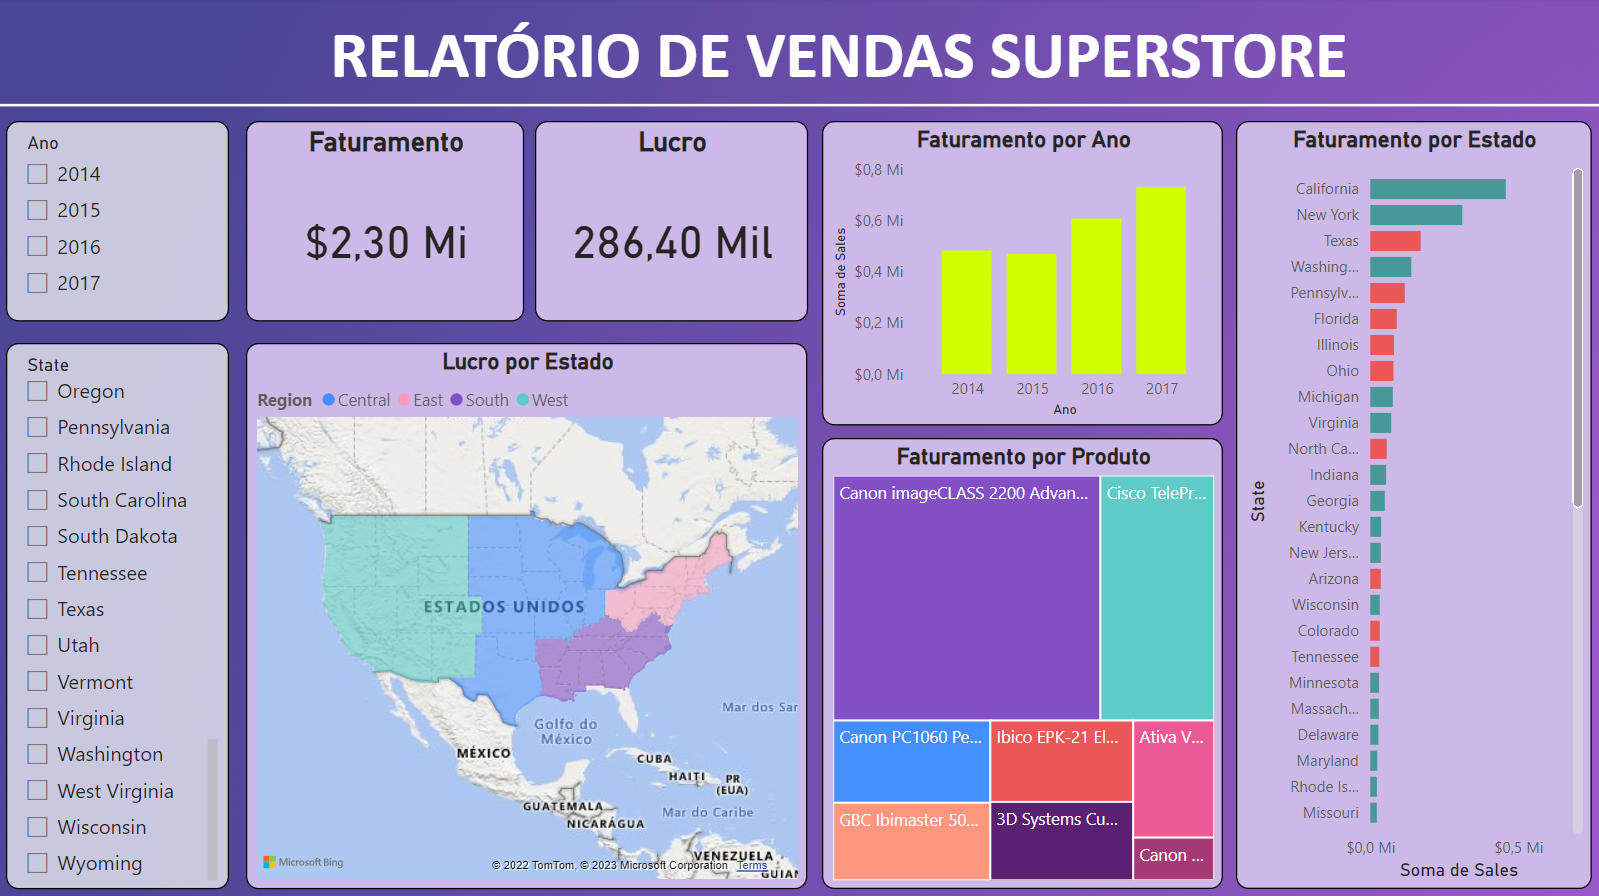

What the dashboard file says about the page in this screenshot:
{"tool":"powerbi","page":{"name":"Página 1","canvas":[1280,720],"ordinal":0},"visuals":[{"type":"barChart","title":"Faturamento por Estado","fields":{"Category":["Sample - Superstore.State"],"Y":["Sum(Sample - Superstore.Sales)"]},"box":[988.4,98.1,283.5,613],"z":0},{"type":"slicer","fields":{"Values":["Sample - Superstore.Ano"]},"box":[6.3,98.1,178.2,160.2],"z":1000},{"type":"slicer","fields":{"Values":["Sample - Superstore.State"]},"box":[6.3,275.4,178.2,435.7],"z":2000},{"type":"columnChart","title":"Faturamento por Ano","fields":{"Y":["Sum(Sample - Superstore.Sales)"],"Category":["Sample - Superstore.Ano"]},"box":[658,98.1,320.5,243],"z":3000},{"type":"card","title":"Faturamento","fields":{"Values":["Sum(Sample - Superstore.Sales)"]},"box":[198,98.1,222.3,160.2],"z":4000},{"type":"filledMap","title":"Lucro por Estado","fields":{"Category":["Sample - Superstore.State"],"Series":["Sample - Superstore.Region"]},"box":[198,275.4,448.3,435.7],"z":5000},{"type":"textbox","box":[157.5,7.2,1028,78.3],"z":6000},{"type":"shape","box":[0,79.2,1280,12.6],"z":7000},{"type":"treemap","title":"Faturamento por Produto","fields":{"Group":["Sample - Superstore.Product Name"],"Values":["Sum(Sample - Superstore.Sales)"]},"box":[658,351.1,320.5,360.1],"z":8000},{"type":"card","title":"Lucro","fields":{"Values":["Sum(Sample - Superstore.Profit)"]},"box":[428.5,98.1,217.8,160.2],"z":8001}]}

Visuals, with their boxes in screenshot pixels (x1, y1, x2, y2), scaled from the page's 1280x720 canvas onto the 1599x896 screenshot:
"Faturamento por Estado" barChart: bbox=(1235, 122, 1589, 885)
slicer - Sample - Superstore.Ano: bbox=(8, 122, 230, 321)
slicer - Sample - Superstore.State: bbox=(8, 343, 230, 885)
"Faturamento por Ano" columnChart: bbox=(822, 122, 1222, 424)
"Faturamento" card: bbox=(247, 122, 525, 321)
"Lucro por Estado" filledMap: bbox=(247, 343, 807, 885)
textbox: bbox=(197, 9, 1481, 106)
shape: bbox=(0, 99, 1598, 114)
"Faturamento por Produto" treemap: bbox=(822, 437, 1222, 885)
"Lucro" card: bbox=(535, 122, 807, 321)
